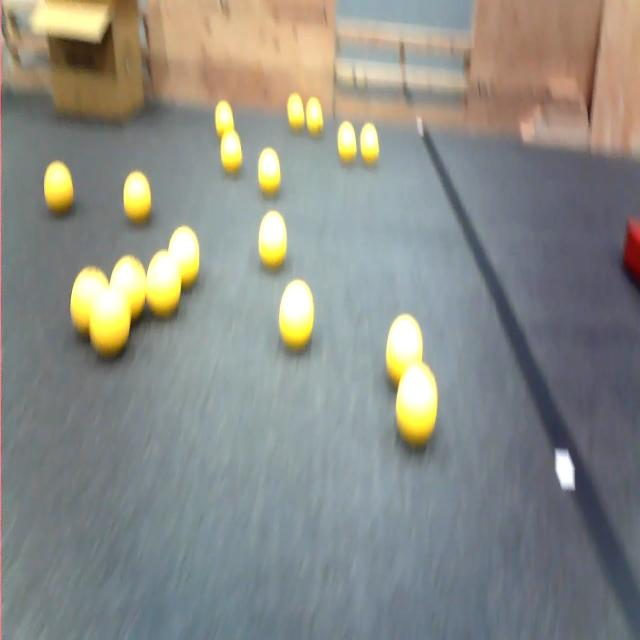fuel: (396, 363, 437, 447), (89, 287, 130, 358), (70, 266, 108, 335), (386, 314, 422, 385), (279, 280, 314, 351), (110, 256, 146, 321), (147, 251, 181, 317), (168, 226, 199, 288), (259, 211, 286, 269), (44, 161, 73, 214), (123, 171, 151, 224), (258, 148, 280, 196), (221, 129, 242, 174), (337, 121, 357, 163), (360, 123, 379, 164), (215, 100, 235, 138), (287, 92, 305, 132), (306, 97, 323, 135)
